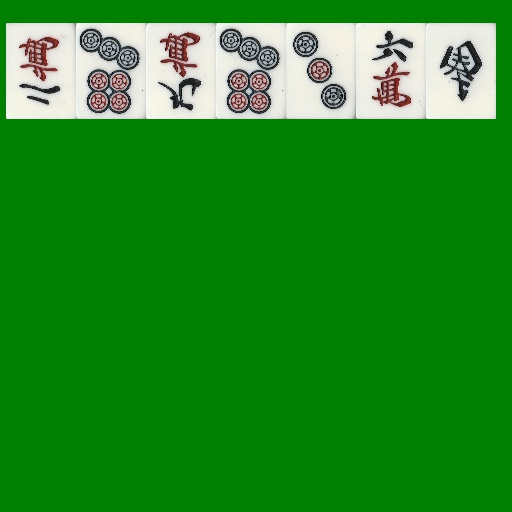2m: (6, 23, 76, 119)
3p: (286, 23, 356, 119)
6m: (356, 23, 426, 119)
7p: (76, 23, 146, 119), (216, 23, 286, 119)
9m: (146, 23, 216, 119)
south: (426, 23, 496, 119)
